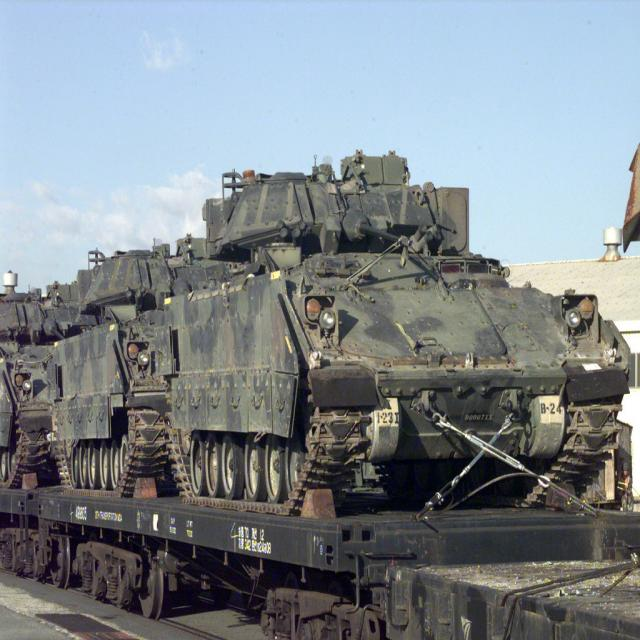tank: (164, 150, 632, 518), (46, 235, 244, 498), (0, 268, 52, 486)
